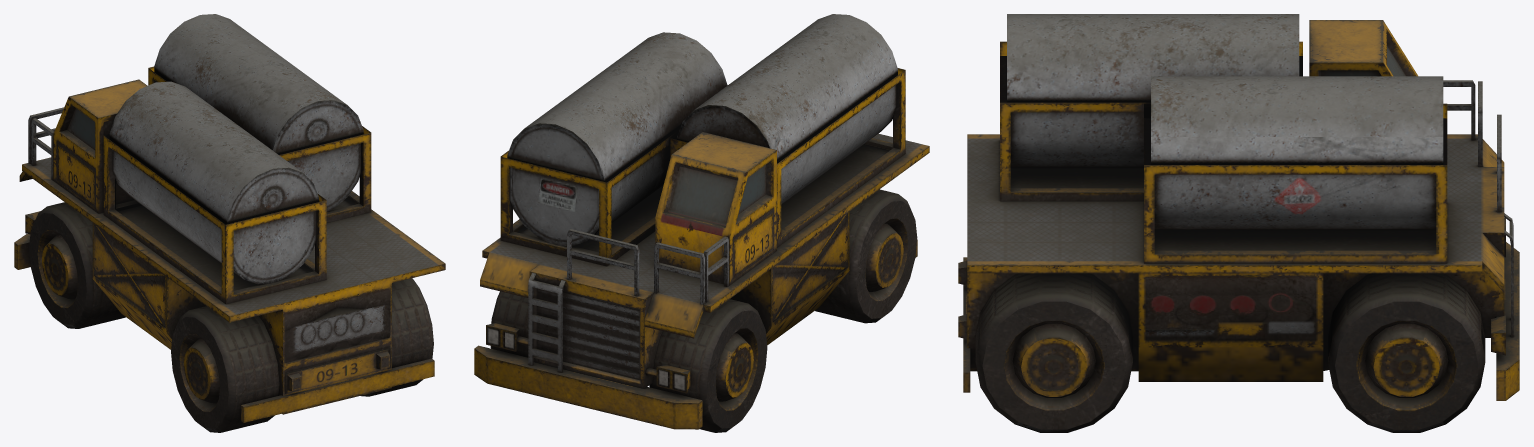
The model's file is airex.FBX.
The picture shows the model from 3 angles, left to right: view 1: azimuth 30°, elevation 25°; view 2: azimuth 150°, elevation 25°; view 3: azimuth 270°, elevation 25°; orthographic projection. The views are drawn at different scales.
Parts seen in each view (by area): view 1: Barrel 2, Barrel 1, Decorative, airextruck.004, airextruck.001, Wheel 3, Wheel 4, Cabin, airextruck.003, Wheel 2; view 2: Decorative, Barrel 1, Barrel 2, Cabin, airextruck.004, airextruck.001, Wheel 4, Wheel 3, airextruck.003, Wheel 1; view 3: Barrel 1, airextruck.004, Barrel 2, Decorative, Wheel 1, Wheel 2, airextruck.002, airextruck.001, Cabin.
Part boxes in pixels (x1,y1,x2,y2): Barrel 2: [109, 81, 318, 284]; Barrel 1: [154, 14, 363, 211]; Decorative: [14, 66, 434, 422]; airextruck.004: [22, 157, 445, 322]; airextruck.001: [259, 277, 391, 414]; Wheel 3: [171, 306, 279, 432]; Wheel 4: [29, 202, 125, 328]; Cabin: [53, 79, 147, 213]; airextruck.003: [92, 223, 205, 349]; Wheel 2: [360, 278, 433, 396]; Decorative: [474, 68, 917, 429]; Barrel 1: [507, 32, 727, 246]; Barrel 2: [677, 14, 897, 204]; Cabin: [655, 132, 776, 285]; airextruck.004: [482, 133, 929, 312]; airextruck.001: [529, 264, 662, 388]; Wheel 4: [649, 299, 767, 432]; Wheel 3: [815, 189, 917, 323]; airextruck.003: [730, 211, 849, 344]; Wheel 1: [490, 291, 528, 357]; Barrel 1: [1151, 76, 1443, 230]; airextruck.004: [967, 134, 1482, 273]; Barrel 2: [1007, 14, 1299, 168]; Decorative: [958, 41, 1519, 400]; Wheel 1: [1328, 273, 1485, 432]; Wheel 2: [975, 273, 1132, 432]; airextruck.002: [1138, 273, 1323, 381]; airextruck.001: [967, 167, 1504, 371]; Cabin: [1309, 20, 1417, 76].
Bounding box in the file's own units: 354 × 409 × 641.
